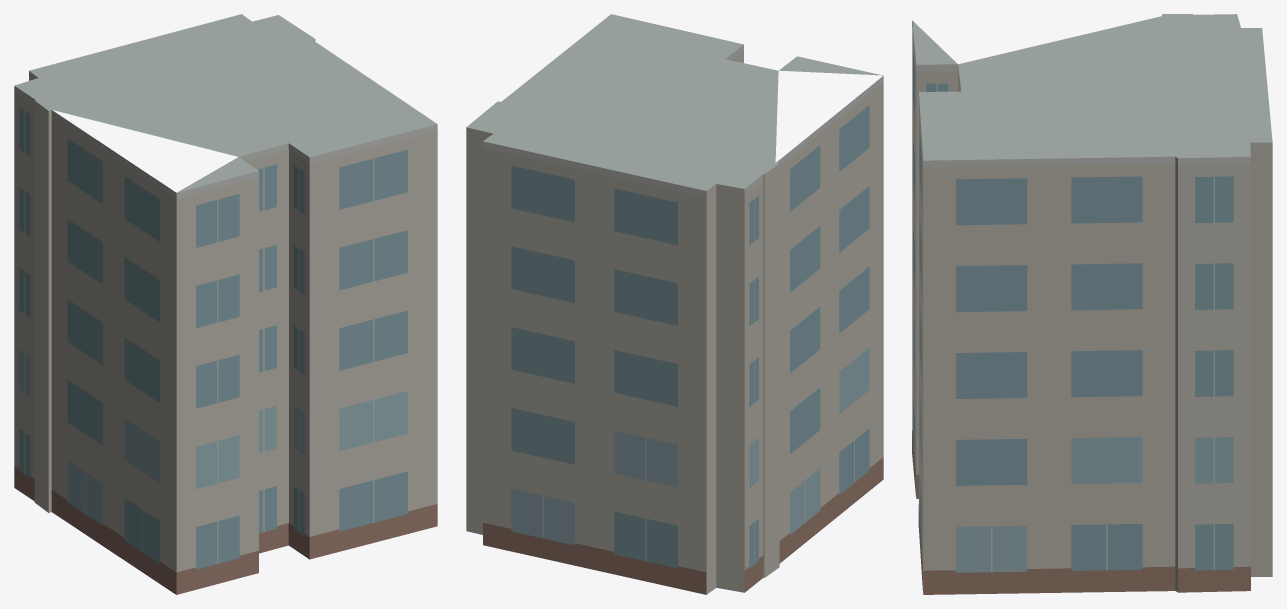
The model's file is survey-upis-32841453.glb.
The picture shows the model from 3 angles, left to right: view 1: azimuth 30°, elevation 25°; view 2: azimuth 150°, elevation 25°; view 3: azimuth 270°, elevation 25°; orthographic projection. The views are drawn at different scales.
Parts seen in each view (by area): view 1: survey-upis-32841453.tmp; view 2: survey-upis-32841453.tmp; view 3: survey-upis-32841453.tmp.
Boxes of the visible parts, x1=… form: survey-upis-32841453.tmp: x1=14, y1=14, x2=437, y2=594; survey-upis-32841453.tmp: x1=466, y1=14, x2=883, y2=594; survey-upis-32841453.tmp: x1=912, y1=14, x2=1272, y2=594.
Size of the model in its own units: 11.16 by 15.4 by 11.59.
